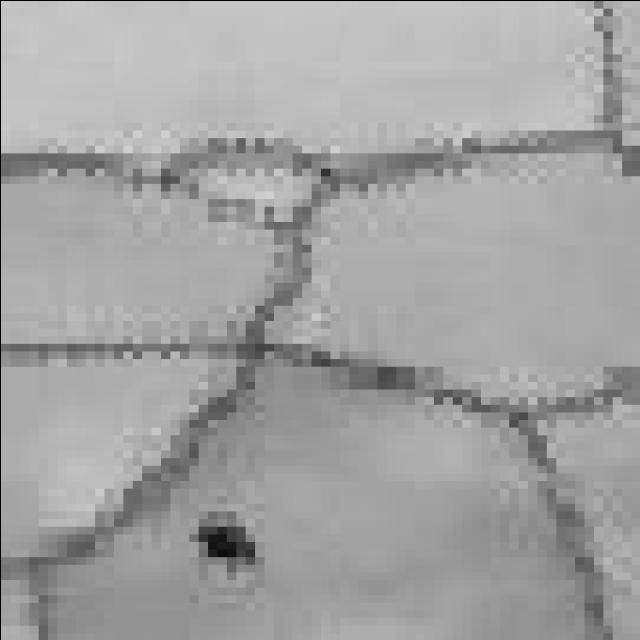good_void: (177, 498, 269, 583)
